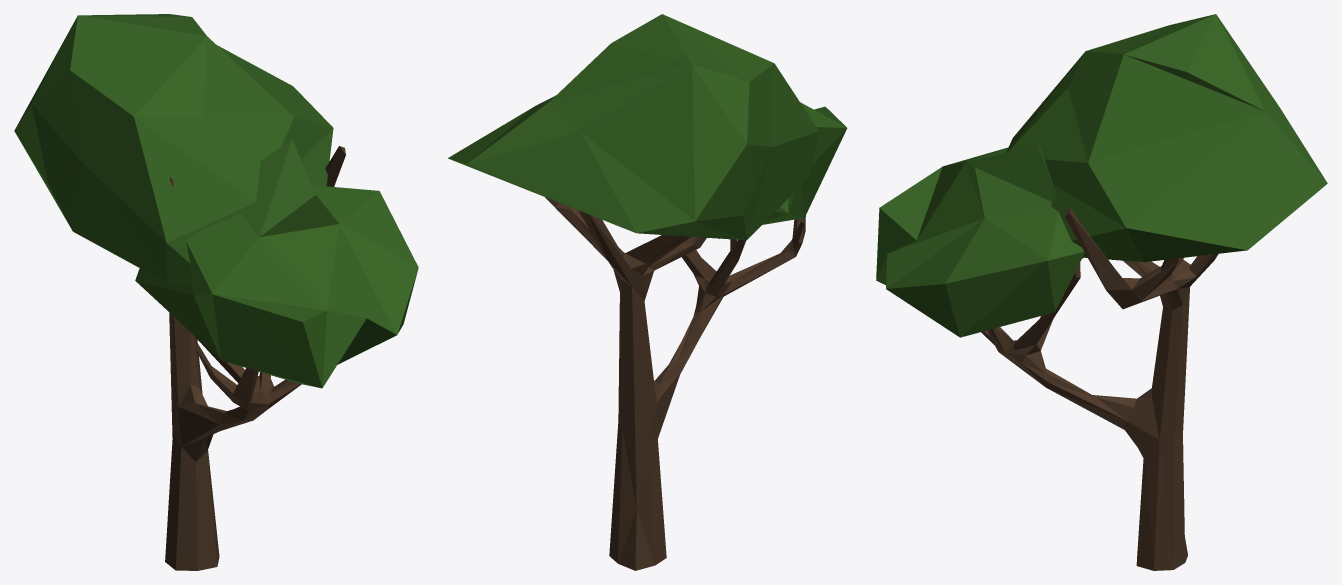
The model's file is tree_a.glb.
The picture shows the model from 3 angles, left to right: view 1: azimuth 30°, elevation 25°; view 2: azimuth 150°, elevation 25°; view 3: azimuth 270°, elevation 25°; orthographic projection. The views are drawn at different scales.
Parts seen in each view (by area): view 1: tree_a; view 2: tree_a; view 3: tree_a.
Part boxes in pixels (x1=…): tree_a: x1=14, y1=14, x2=418, y2=570; tree_a: x1=448, y1=14, x2=847, y2=570; tree_a: x1=876, y1=14, x2=1327, y2=570.
Size of the model in its own units: 1.66 by 3.04 by 2.45.
